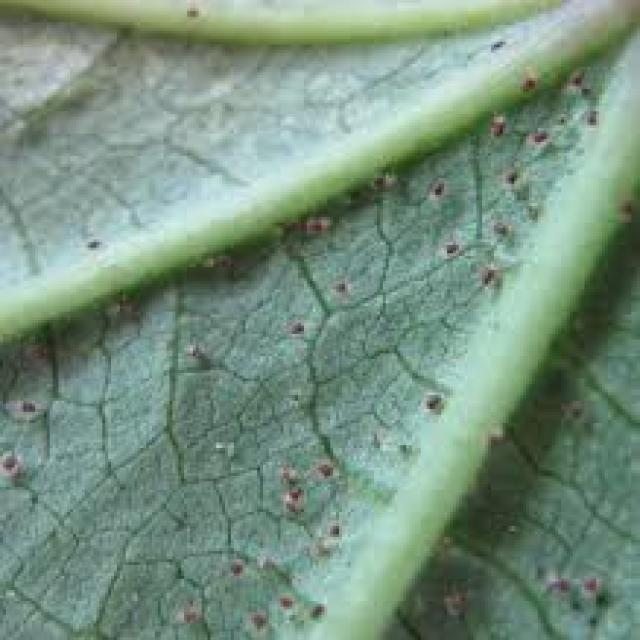Mites: (440, 579, 475, 622), (170, 601, 209, 630), (111, 294, 144, 326), (558, 394, 589, 426), (479, 32, 512, 61), (420, 384, 449, 414), (242, 607, 270, 638), (278, 484, 306, 514), (0, 445, 23, 481), (24, 336, 53, 364), (74, 235, 114, 255), (14, 394, 42, 422), (303, 214, 329, 242), (182, 336, 207, 365), (480, 422, 504, 452), (393, 437, 423, 461), (322, 520, 348, 546), (475, 264, 499, 292), (276, 590, 300, 618), (286, 314, 310, 341), (581, 106, 603, 133), (178, 4, 206, 25), (579, 574, 602, 599), (223, 556, 248, 577), (369, 172, 396, 191), (517, 70, 538, 94), (437, 238, 462, 258), (317, 458, 338, 481), (331, 280, 354, 300), (429, 177, 447, 200), (494, 223, 513, 236), (498, 168, 514, 182)
